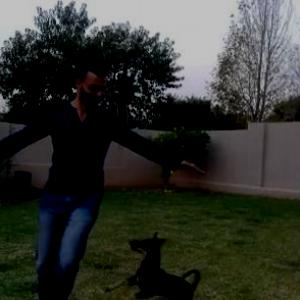land: (0, 70, 172, 286)
